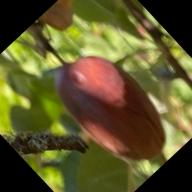Apples: (42, 37, 182, 179)
